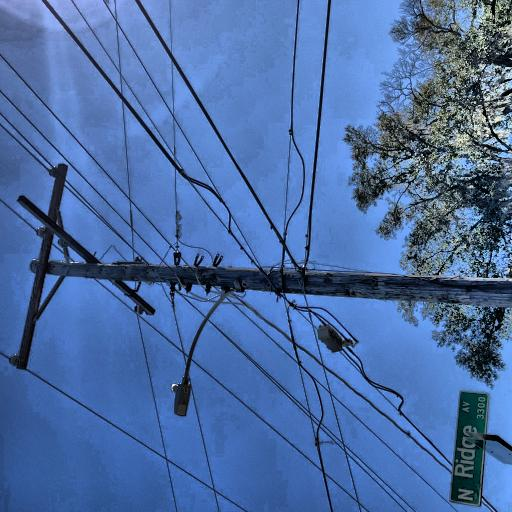insulator: (198, 167, 210, 177), (28, 126, 40, 134)
pole: (62, 141, 132, 512)
street light: (0, 306, 100, 384)
